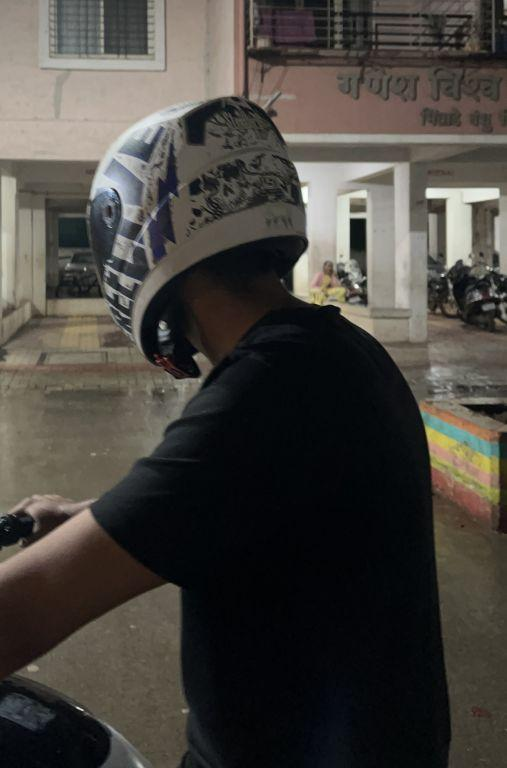helmet: (77, 89, 322, 380)
